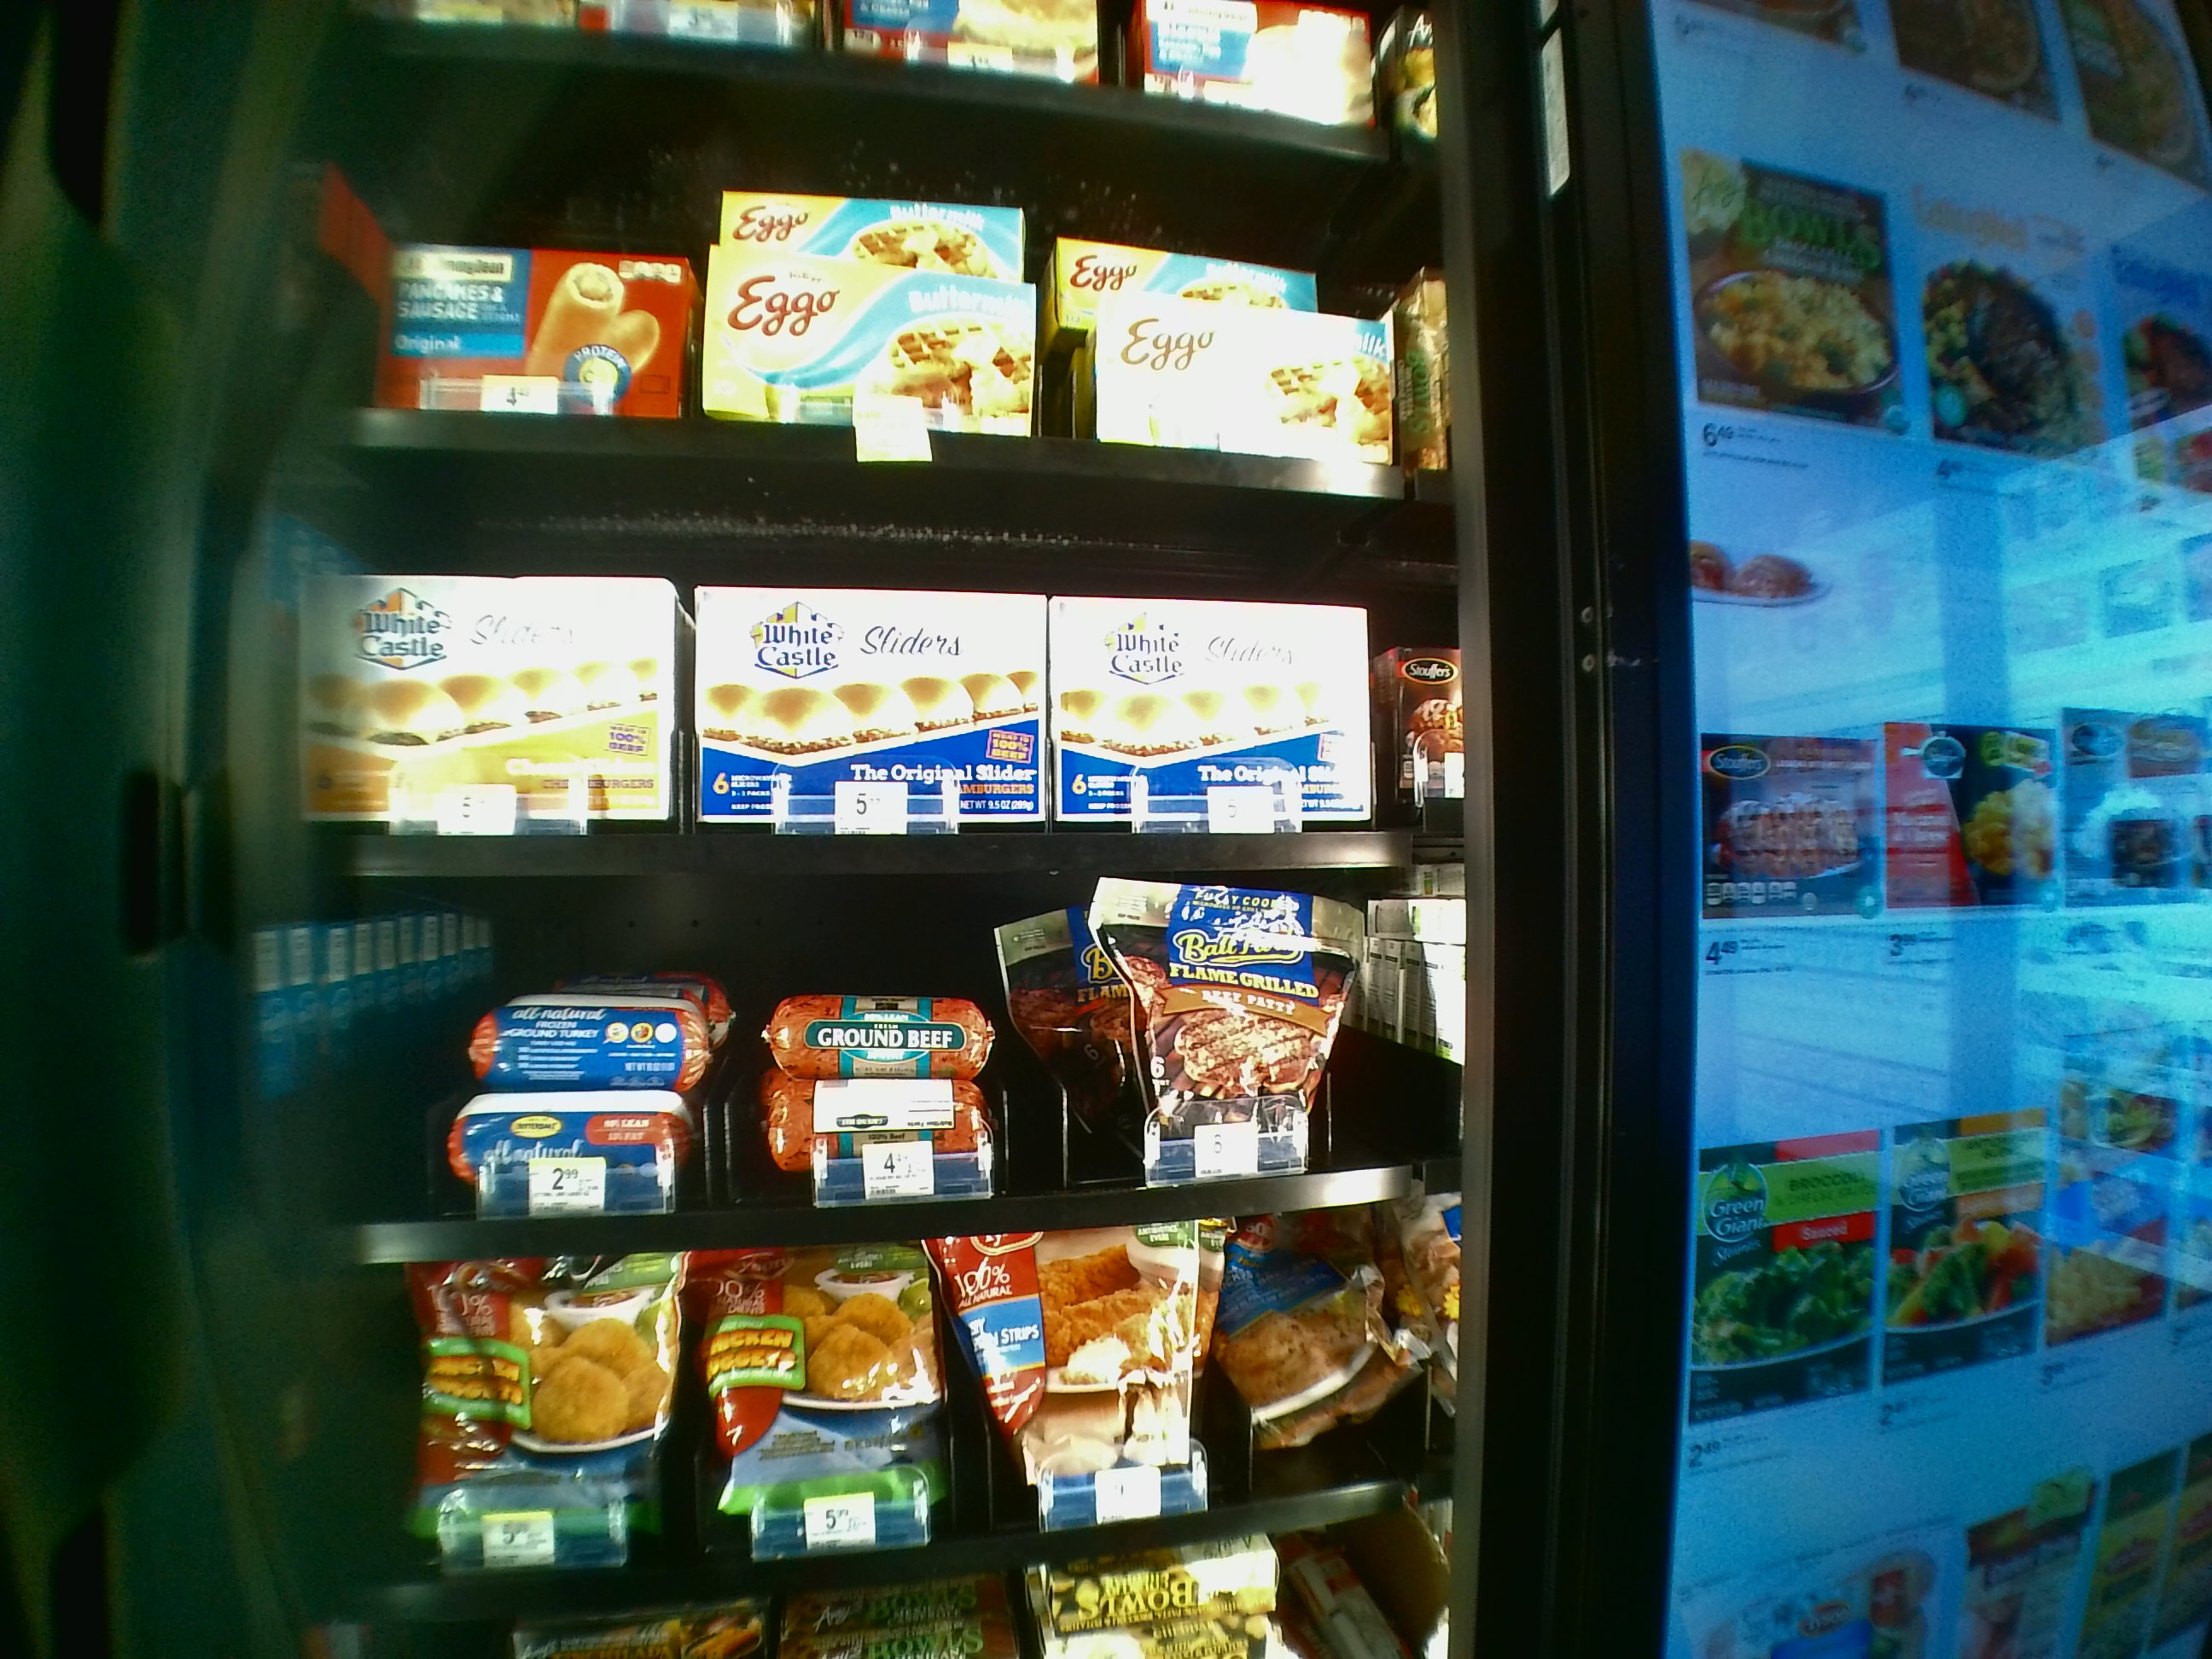shelf: (286, 453, 1447, 871), (279, 887, 1460, 1258)
